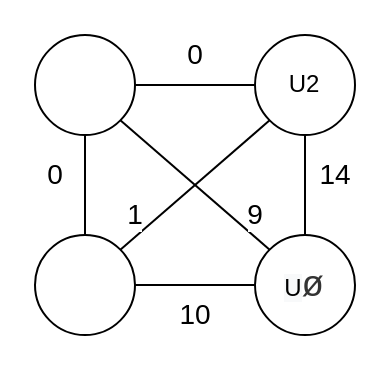
The diagram is 390 pixels wide and 370 high, and some of its shapes have lost their labels. The centre of each missing label's shape, as x and y in pixels:
"U1" belongs at point 84,84.
"U3" belongs at point 84,284.
